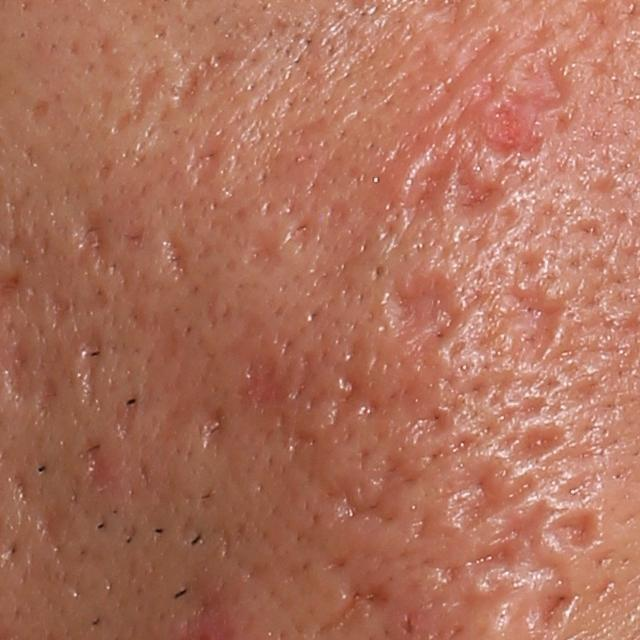atrophic_scar: (445, 291, 578, 374), (465, 51, 569, 157), (431, 454, 542, 539), (464, 501, 576, 584), (324, 443, 414, 526), (382, 270, 476, 341), (547, 505, 619, 564), (403, 147, 453, 223), (455, 166, 518, 224), (0, 198, 53, 266), (237, 352, 294, 415), (103, 73, 159, 135), (501, 422, 568, 466), (180, 55, 235, 108), (73, 328, 102, 417), (182, 135, 225, 191), (244, 223, 286, 279), (318, 374, 368, 421), (80, 438, 118, 493), (42, 285, 80, 340), (80, 206, 113, 259), (161, 229, 195, 280), (195, 402, 234, 445), (289, 210, 322, 254), (41, 502, 72, 547), (35, 372, 63, 420), (3, 468, 32, 502), (28, 98, 51, 123)
